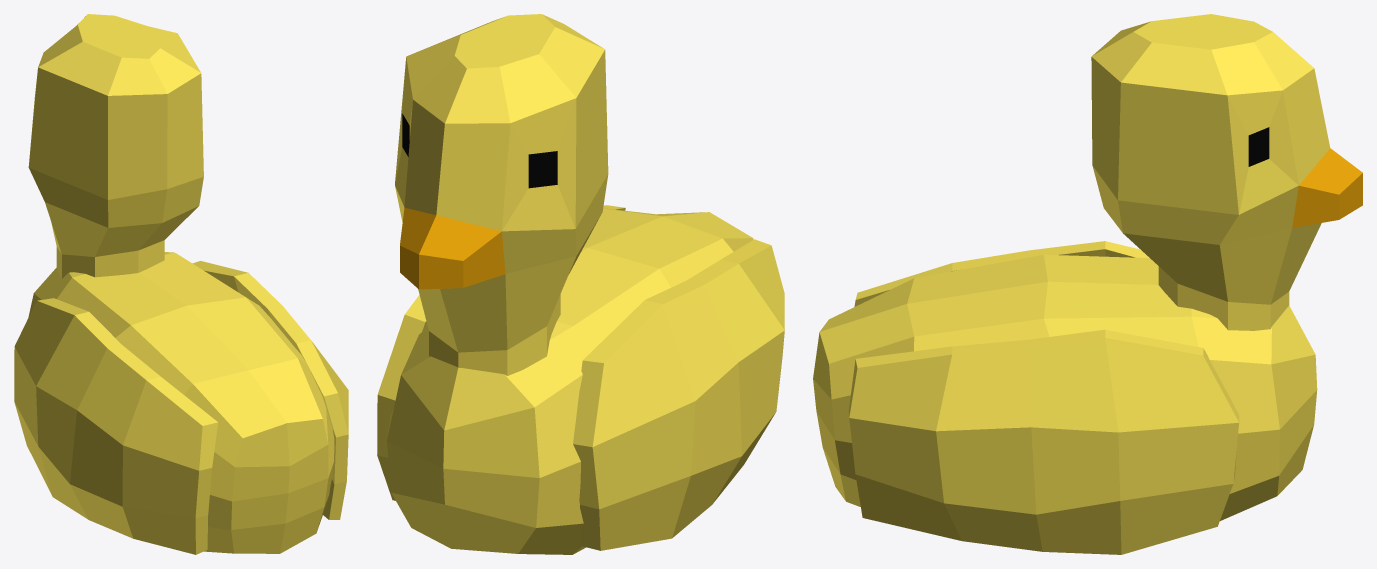
The model's file is NPC_Dutchman_Quacketty.fbx.
The picture shows the model from 3 angles, left to right: view 1: azimuth 30°, elevation 25°; view 2: azimuth 150°, elevation 25°; view 3: azimuth 270°, elevation 25°; orthographic projection. The views are drawn at different scales.
Visible parts, largest first — view 1: Entities_duck_body; view 2: Entities_duck_body; view 3: Entities_duck_body.
Part boxes in pixels (x1=…): Entities_duck_body: x1=14, y1=14, x2=348, y2=554; Entities_duck_body: x1=377, y1=14, x2=784, y2=554; Entities_duck_body: x1=813, y1=14, x2=1362, y2=554.
Size of the model in its own units: 33.93 by 57.34 by 58.18.
